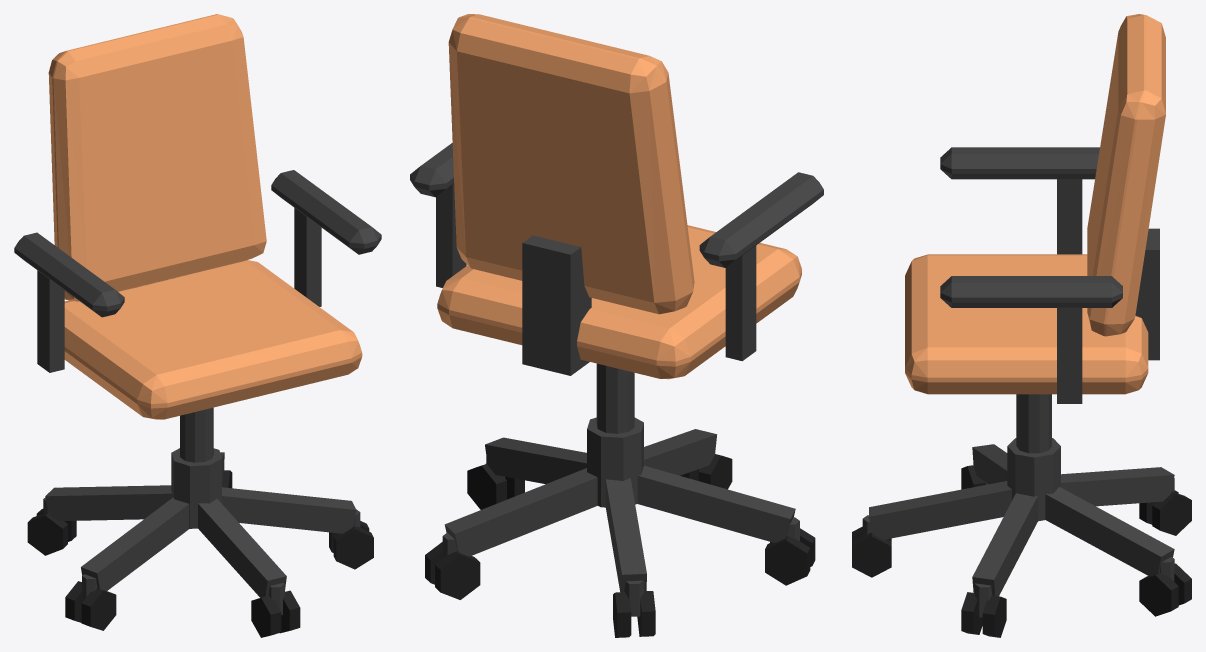
3 views of the same model, side by side, from view 1: azimuth 30°, elevation 25°; view 2: azimuth 150°, elevation 25°; view 3: azimuth 270°, elevation 25° (orthographic). The views are drawn at different scales.
Parts seen in each view (by area): view 1: COM-04_Chair_blender_direct; view 2: COM-04_Chair_blender_direct; view 3: COM-04_Chair_blender_direct.
Part boxes in pixels (<box>): COM-04_Chair_blender_direct: <box>14,14,381,637</box>; COM-04_Chair_blender_direct: <box>410,14,823,637</box>; COM-04_Chair_blender_direct: <box>852,14,1191,637</box>.
Bounding box in the file's own units: 0.7041 × 1.13 × 0.6697.
Materials: 1 (1 with a texture image).
